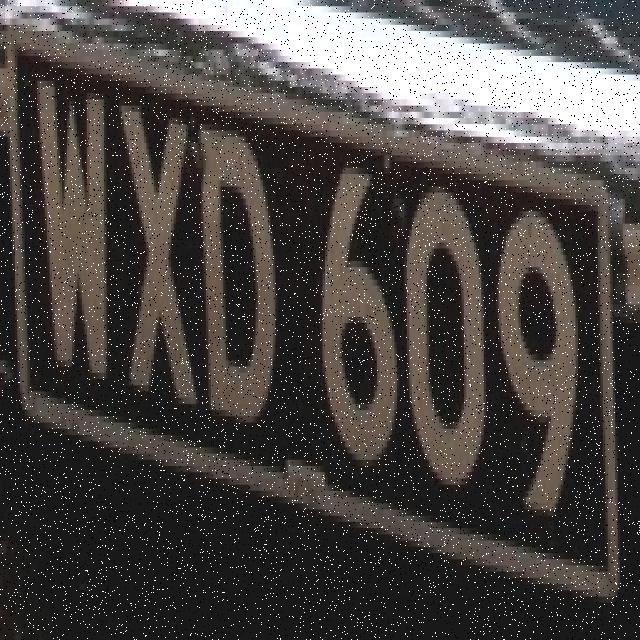licenseplate: (7, 21, 620, 600)
